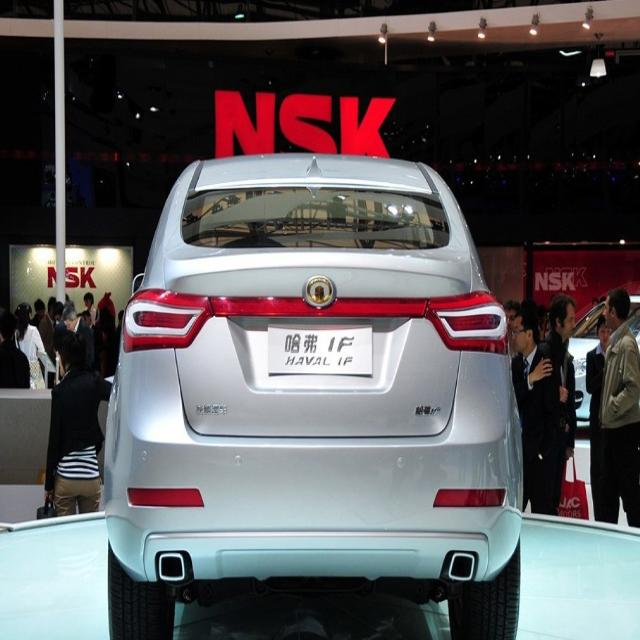back_glass: (179, 183, 452, 252)
back_left_side_light: (121, 285, 215, 353)
back_right_side_light: (422, 289, 510, 356)
front_left_side_mirror: (130, 271, 146, 296)
rear_bumper: (102, 346, 524, 587)
wheel: (447, 540, 521, 637), (107, 548, 176, 640)
